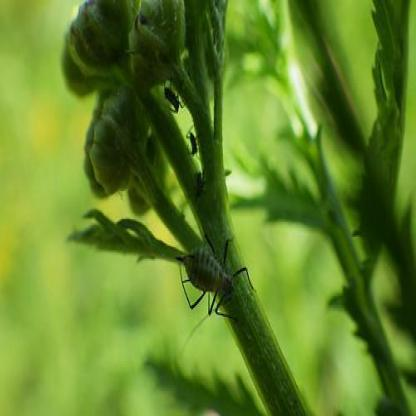aphid: (174, 230, 256, 327), (162, 70, 190, 118), (184, 124, 203, 164), (188, 163, 207, 199)
